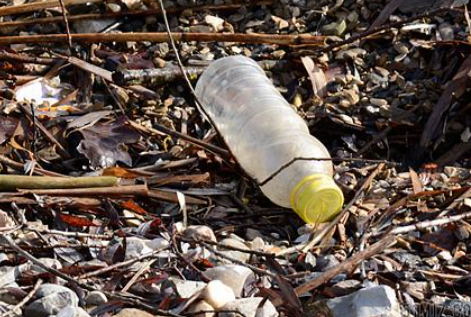garbage: (192, 53, 349, 221), (11, 75, 136, 178)
